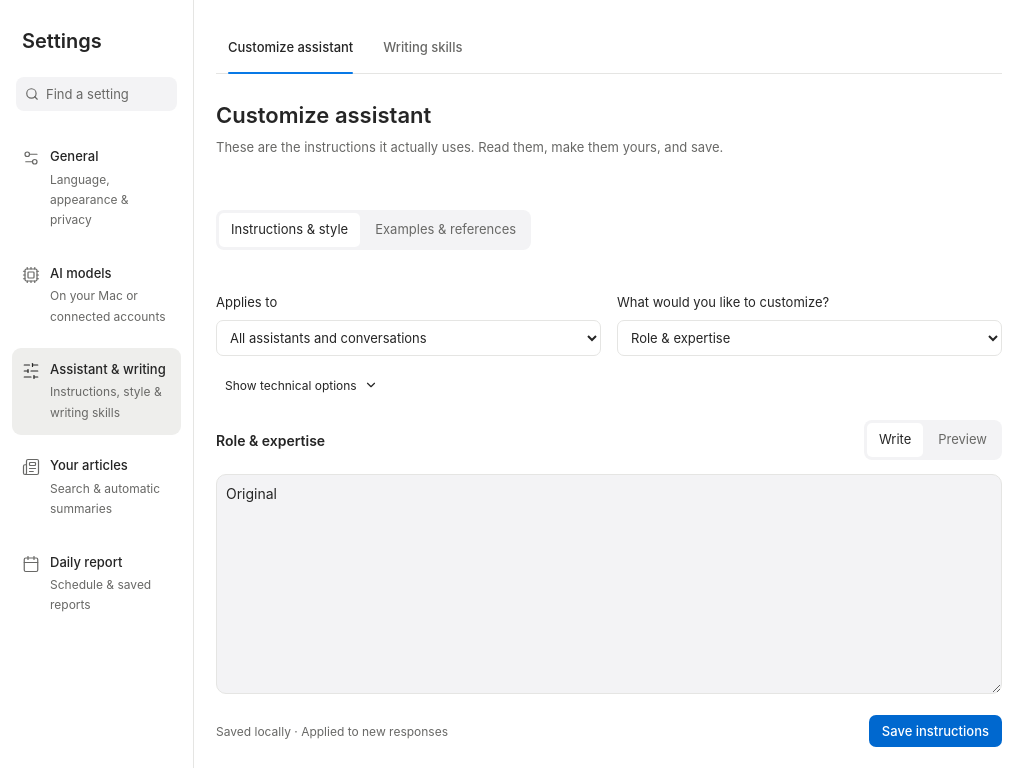
Test: treats an acknowledged settings save as saved even when snapshot refresh fails
Step 1. Replace the text in the text box showing "Original" with "Saved edit" → x=609, y=584, box [216,474,1002,694]
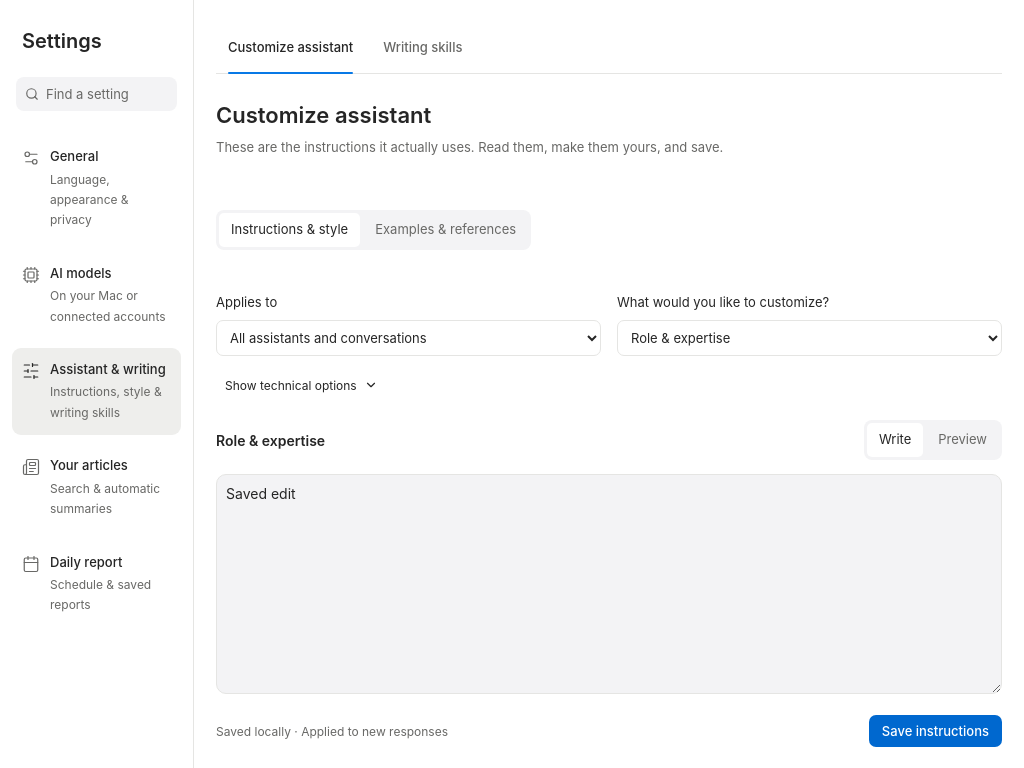
Step 2. Click the button "Save instructions" → x=935, y=731, box [869,715,1002,747]
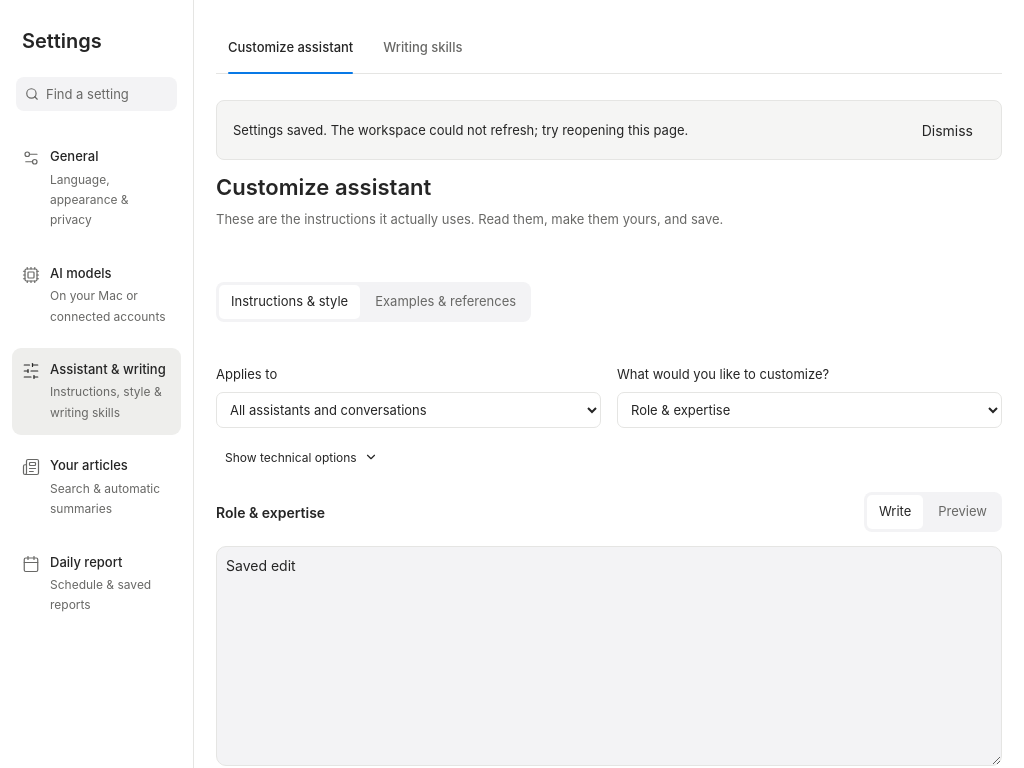
Step 3. Click the button "General Language, appearance & privacy" → x=96, y=189, box [12,135,181,243]
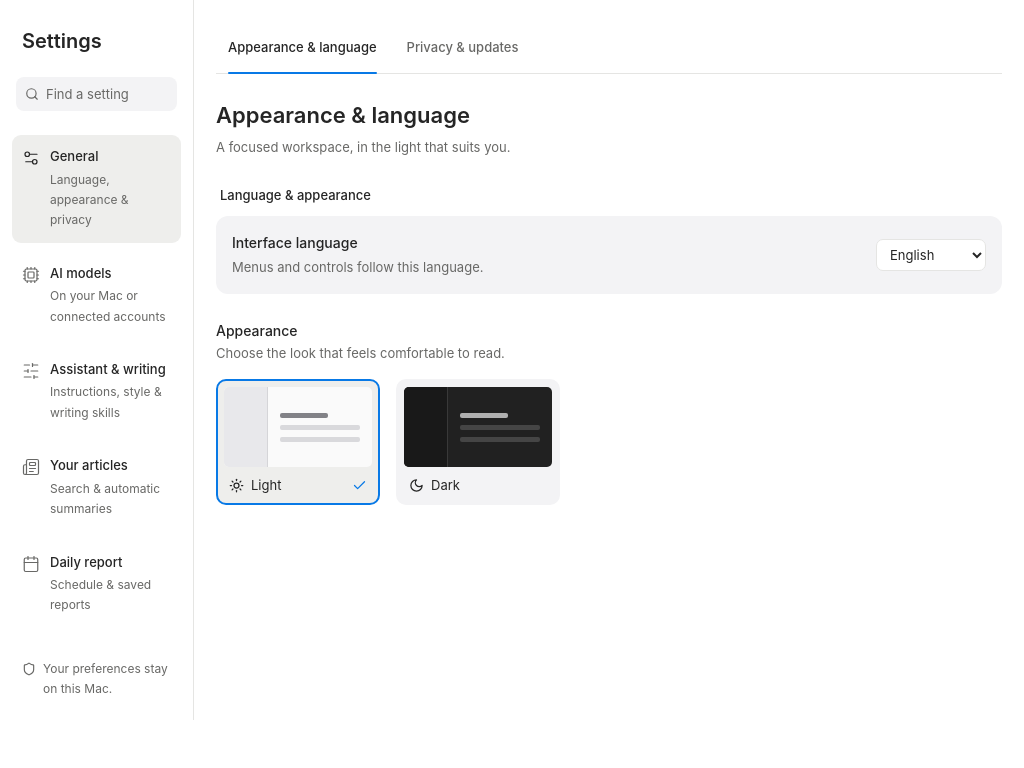
Check: the heading "Appearance & language" is shown, box [216,102,470,128]
